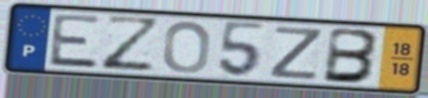5: (216, 20, 269, 81)
B: (321, 26, 383, 86)
E: (47, 12, 105, 71)
O: (161, 19, 214, 75)
Z: (100, 13, 165, 73), (267, 25, 326, 82)
